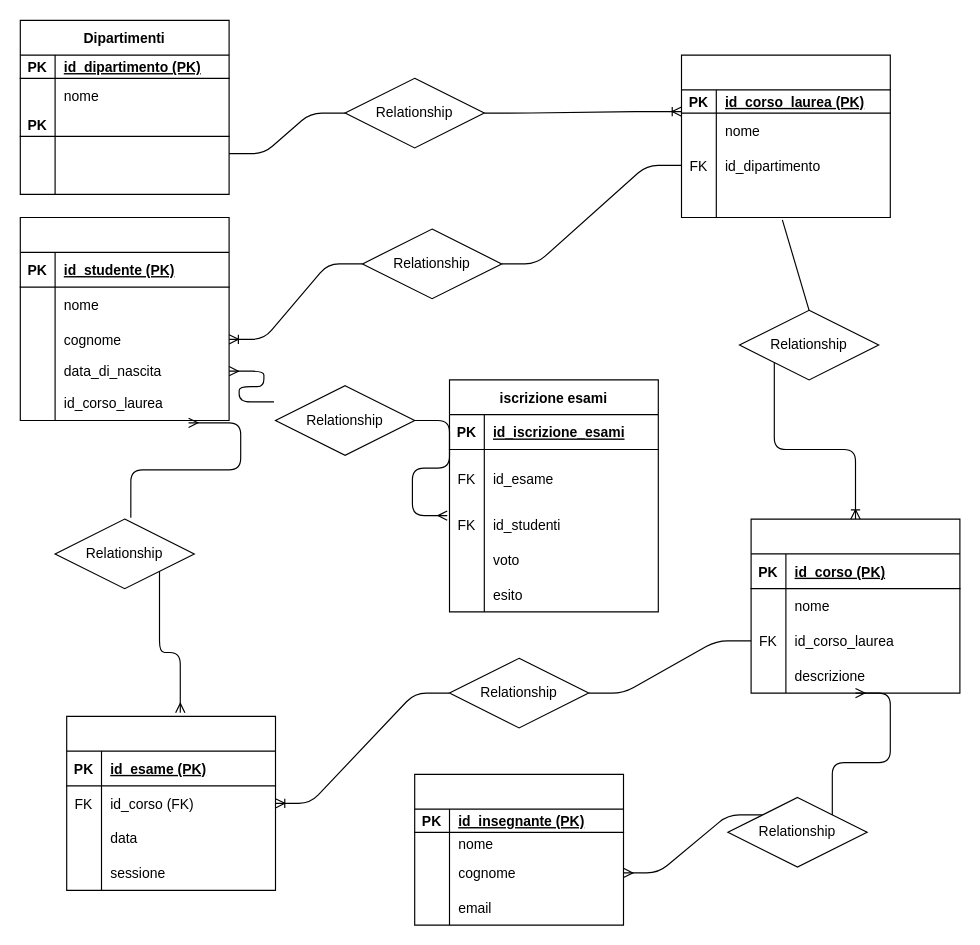
Some shapes in this 980 by 945 pixel diagram are drawn without their labels. Each missing label, with the box of its shape:
corsi: (750, 518, 960, 693)
corsi di laurea: (680, 54, 890, 217)
esami: (66, 715, 276, 890)
insegnanti: (414, 773, 624, 925)
studenti: (19, 216, 229, 420)
